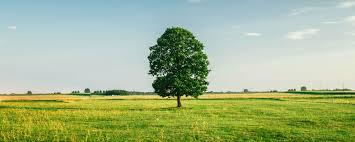tree: (149, 27, 213, 109)
